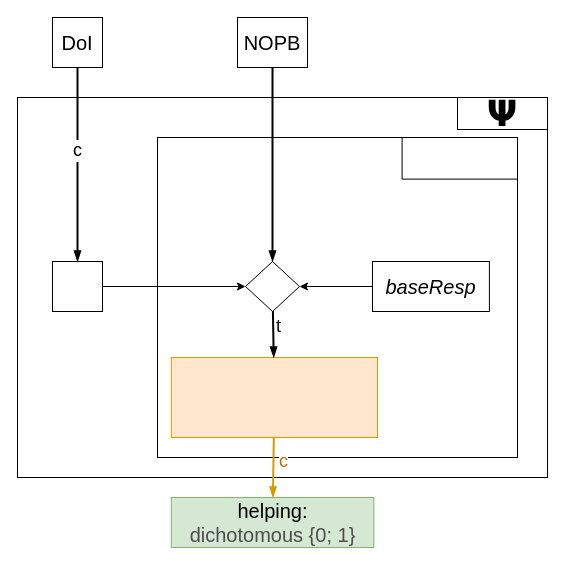
The diagram is 565 pixels wide and 565 high, and some of its shapes have lost their labels. The centre of each missing label's shape, as x and y in pixels:
DR: the point at 459,157
felt responsibility feltResp: continuous [0;1]: the point at 274,397
p DoI: the point at 77,286
